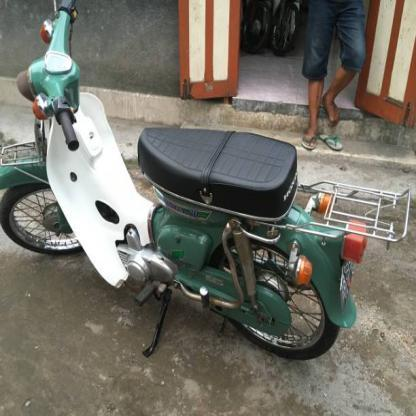Motorcycle: (0, 0, 413, 362)
